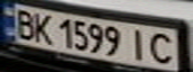1: (51, 16, 72, 48)
5: (69, 18, 90, 52)
9: (103, 24, 127, 57), (84, 20, 106, 55)
B: (9, 7, 39, 39)
C: (145, 29, 181, 65)
I: (124, 26, 151, 61)
K: (30, 11, 57, 45)
